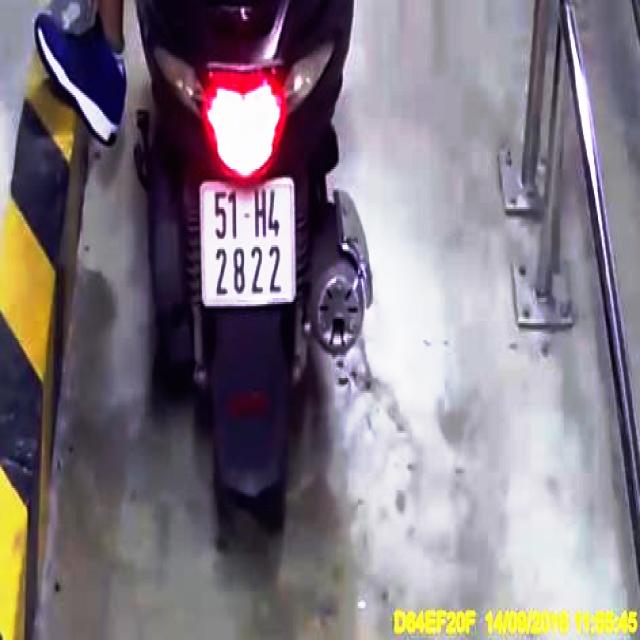license_plate: (204, 183, 295, 309)
